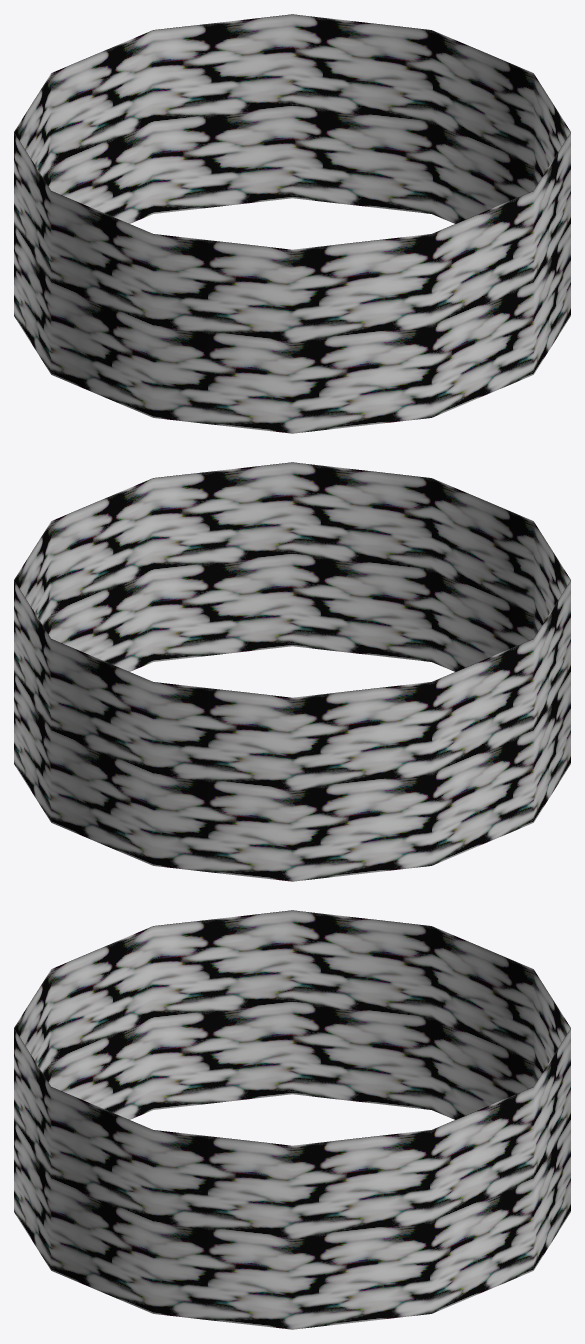
File: fb_yuqinggong_yun01.FBX
3 renders of one model, top to bottom at view 1: azimuth 30°, elevation 25°; view 2: azimuth 150°, elevation 25°; view 3: azimuth 270°, elevation 25°, orthographic.
Parts seen in each view (by area): view 1: fb_yuqinggong_yun01; view 2: fb_yuqinggong_yun01; view 3: fb_yuqinggong_yun01.
Part boxes in pixels (left/top/right/bottom): fb_yuqinggong_yun01: left=14, top=14, right=570, bottom=433; fb_yuqinggong_yun01: left=14, top=462, right=570, bottom=881; fb_yuqinggong_yun01: left=14, top=910, right=570, bottom=1329.
Size of the model in its own units: 241 by 87.97 by 241.
